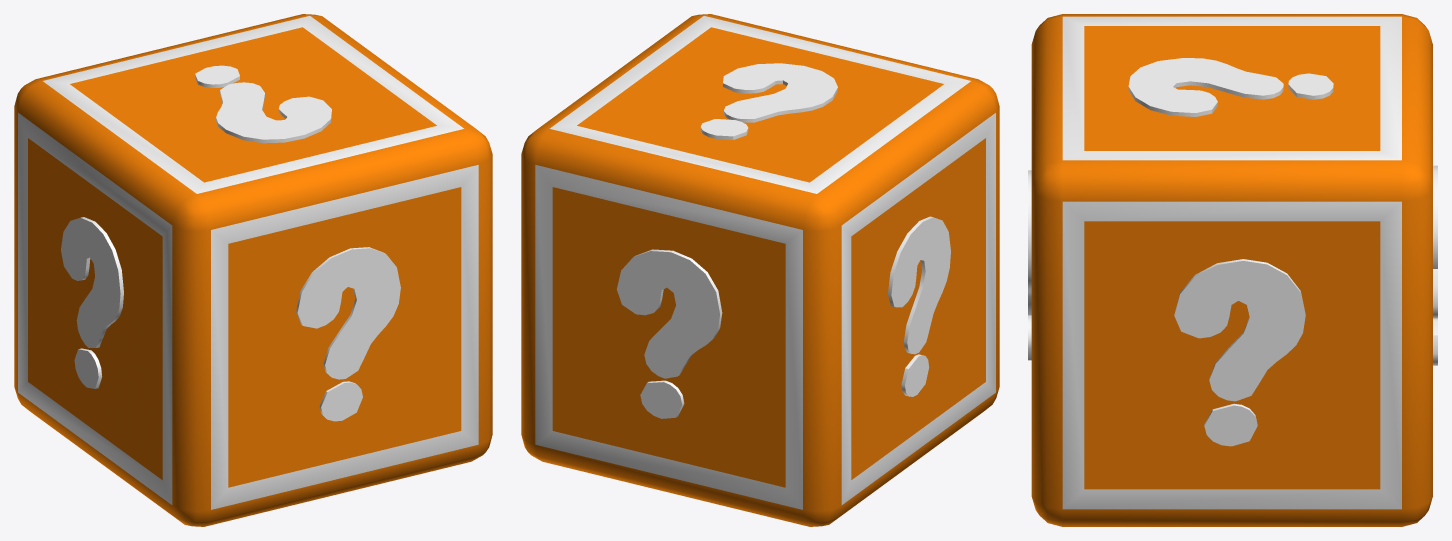
Rendered from Mystery Dice_2.fbx.
3 views of the same model, side by side, from view 1: azimuth 30°, elevation 25°; view 2: azimuth 150°, elevation 25°; view 3: azimuth 270°, elevation 25° (orthographic). The views are drawn at different scales.
Visible parts, largest first — view 1: Mystery Dice_2; view 2: Mystery Dice_2; view 3: Mystery Dice_2.
Part boxes in pixels (x1=…): Mystery Dice_2: x1=14, y1=14, x2=492, y2=526; Mystery Dice_2: x1=521, y1=14, x2=999, y2=526; Mystery Dice_2: x1=1028, y1=14, x2=1437, y2=526.
Bounding box in the file's own units: 0.3543 × 0.3534 × 0.3537.
